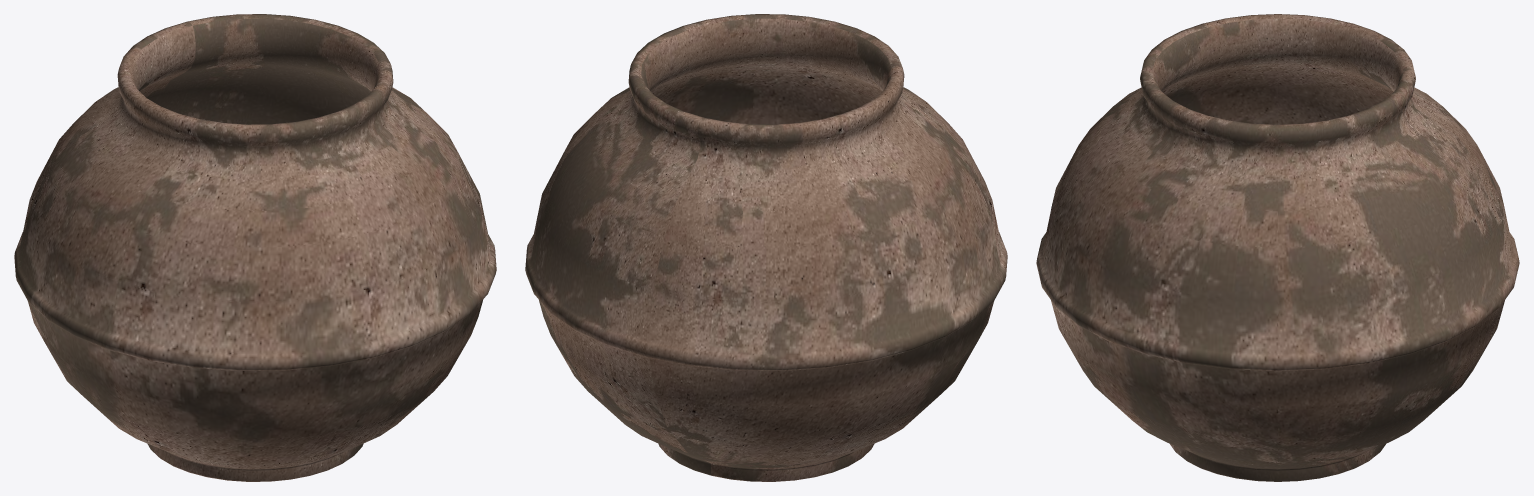
The model's file is 老罐子6.fbx.
3 renders of one model, left to right at view 1: azimuth 30°, elevation 25°; view 2: azimuth 150°, elevation 25°; view 3: azimuth 270°, elevation 25°, orthographic.
Parts seen in each view (by area): view 1: 3d66-Editable_Poly-32443966-025; view 2: 3d66-Editable_Poly-32443966-025; view 3: 3d66-Editable_Poly-32443966-025.
Part boxes in pixels (x1=…): 3d66-Editable_Poly-32443966-025: x1=14, y1=14, x2=496, y2=481; 3d66-Editable_Poly-32443966-025: x1=525, y1=14, x2=1007, y2=481; 3d66-Editable_Poly-32443966-025: x1=1036, y1=14, x2=1519, y2=481.
Size of the model in its own units: 199 by 166 by 199.
1 material, 1 textured.
